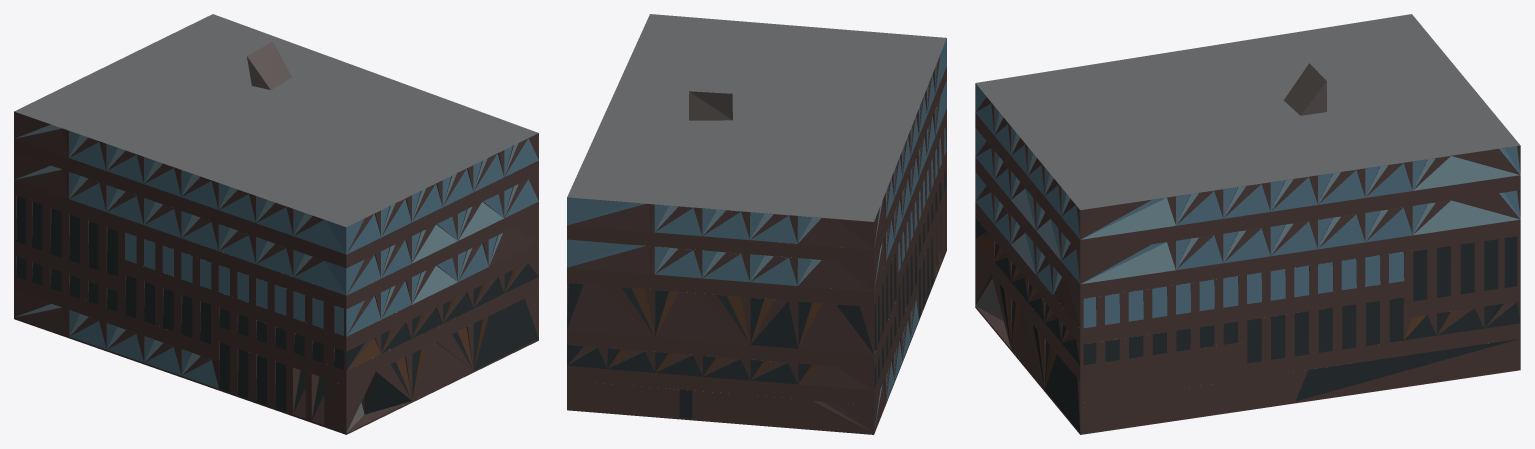
The model's file is politie-oost-watergraafsmeer.lod2.glb.
The picture shows the model from 3 angles, left to right: view 1: azimuth 30°, elevation 25°; view 2: azimuth 150°, elevation 25°; view 3: azimuth 270°, elevation 25°; orthographic projection. The views are drawn at different scales.
Visible parts, largest first — view 1: lod2; view 2: lod2; view 3: lod2.
Part boxes in pixels (<box>): lod2: <box>14,14,538,434</box>; lod2: <box>567,14,946,434</box>; lod2: <box>975,14,1520,434</box>.
Size of the model in its own units: 34.09 by 22.15 by 40.02.
